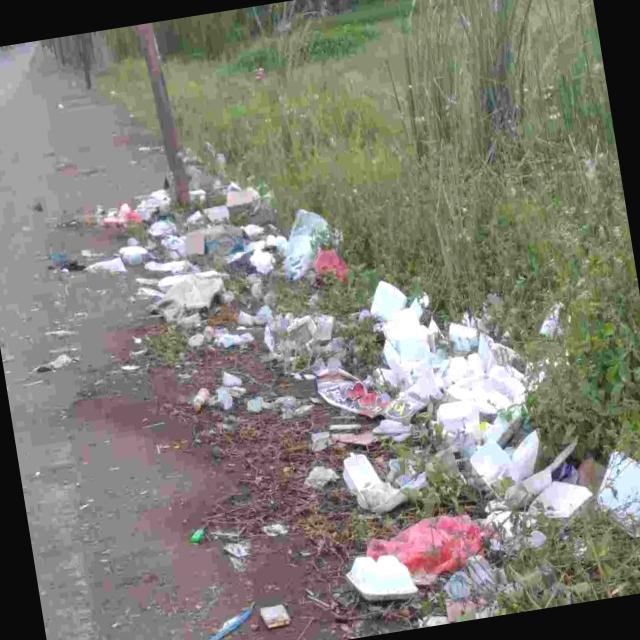garbage: (59, 55, 618, 640)
